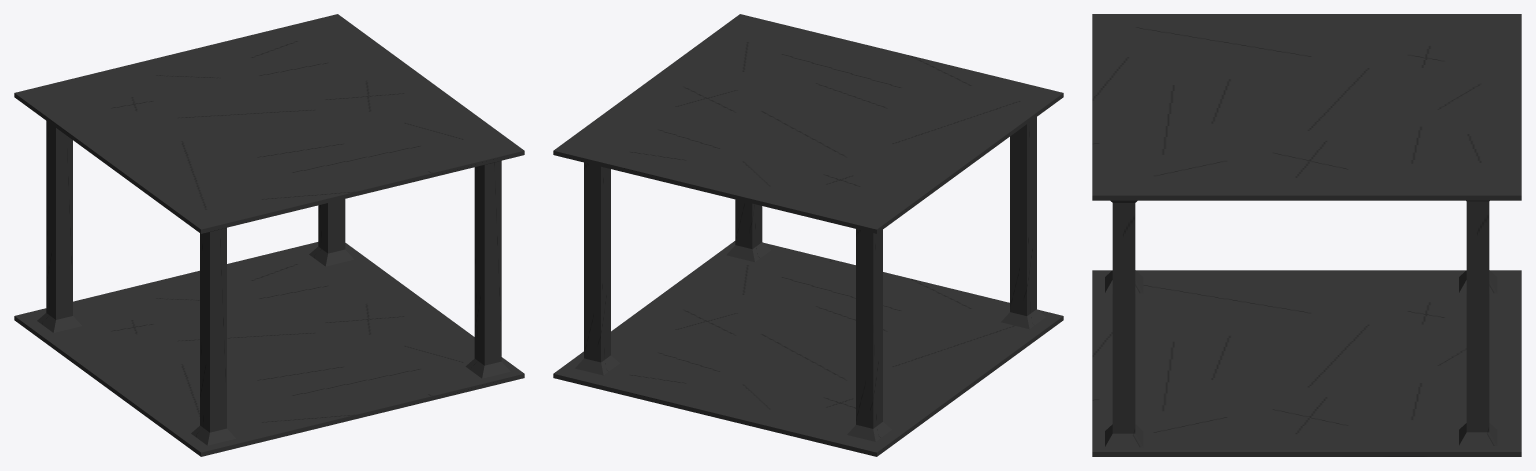
Rendered from elevator.gltf.
3 views of the same model, side by side, from view 1: azimuth 30°, elevation 25°; view 2: azimuth 150°, elevation 25°; view 3: azimuth 270°, elevation 25° (orthographic). The views are drawn at different scales.
Parts seen in each view (by area): view 1: elevator, Cube.003, Cube.002, Cube.001, Cube; view 2: elevator, Cube.001, Cube, Cube.002, Cube.003; view 3: elevator, Cube.003, Cube.
Boxes of the visible parts, <box> form: elevator: <box>14,14,524,456</box>; Cube.003: <box>465,160,510,378</box>; Cube.002: <box>191,227,235,445</box>; Cube.001: <box>37,121,81,332</box>; Cube: <box>309,199,353,266</box>; elevator: <box>553,14,1063,456</box>; Cube.001: <box>847,229,891,441</box>; Cube: <box>575,162,619,375</box>; Cube.002: <box>1001,117,1045,329</box>; Cube.003: <box>726,199,771,261</box>; elevator: <box>1092,14,1521,456</box>; Cube.003: <box>1105,200,1143,447</box>; Cube: <box>1459,200,1497,445</box>.
Size of the model in its own units: 37.95 by 25.49 by 37.95.
1 material, 1 textured.
